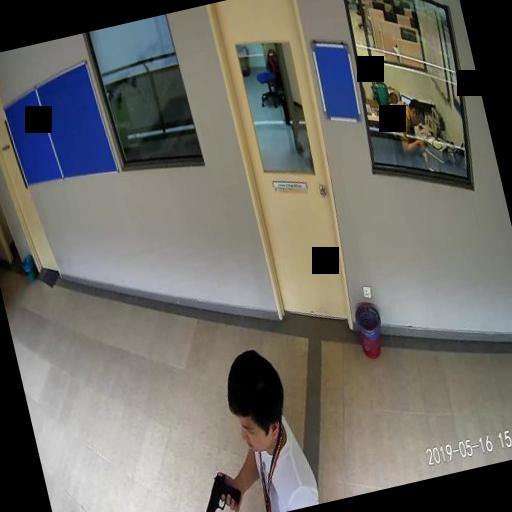Handgun: (191, 469, 244, 512)
